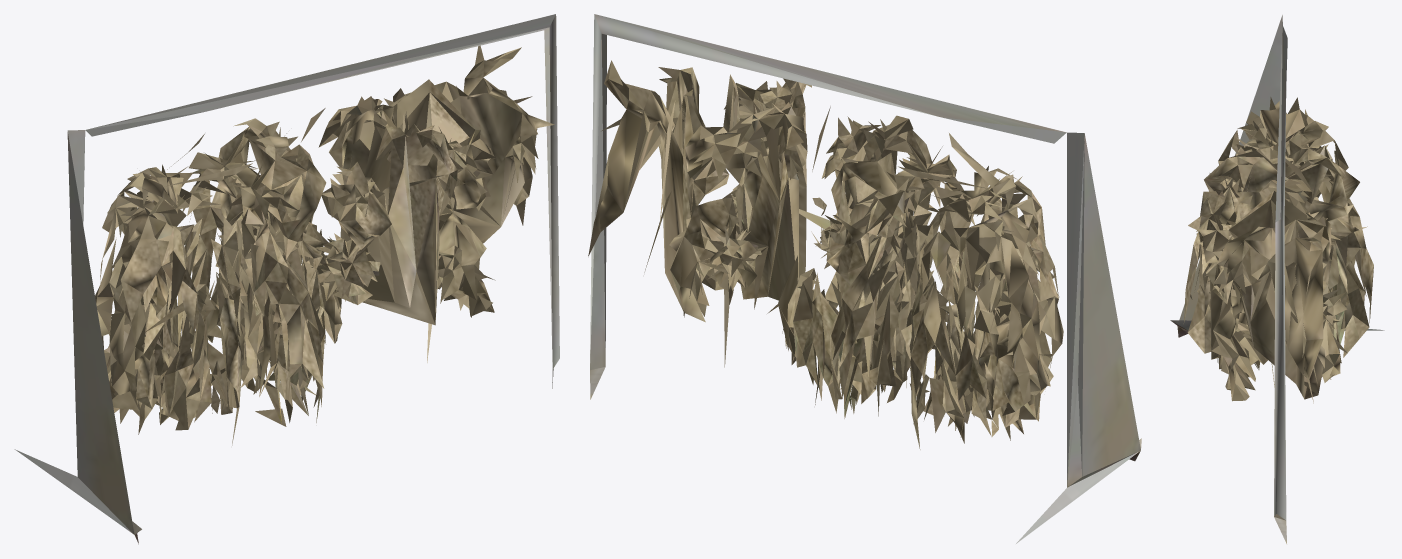
The model's file is fv_costume_rack.glb.
3 renders of one model, left to right at view 1: azimuth 30°, elevation 25°; view 2: azimuth 150°, elevation 25°; view 3: azimuth 270°, elevation 25°, orthographic. The views are drawn at different scales.
Visible parts, largest first — view 1: fv_costume_rack; view 2: fv_costume_rack; view 3: fv_costume_rack.
Boxes of the visible parts, x1=… form: fv_costume_rack: x1=14, y1=14, x2=559, y2=544; fv_costume_rack: x1=588, y1=14, x2=1141, y2=543; fv_costume_rack: x1=1170, y1=15, x2=1384, y2=543.
Size of the model in its own units: 1.9 by 1.42 by 0.8547.
Materials: 1 (1 with a texture image).
